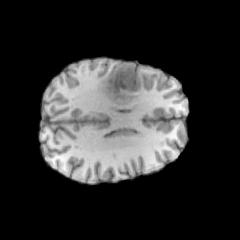glioma: (99, 61, 146, 105)
